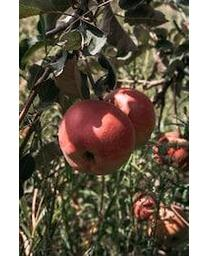apple: (59, 100, 134, 176), (102, 87, 155, 153)
